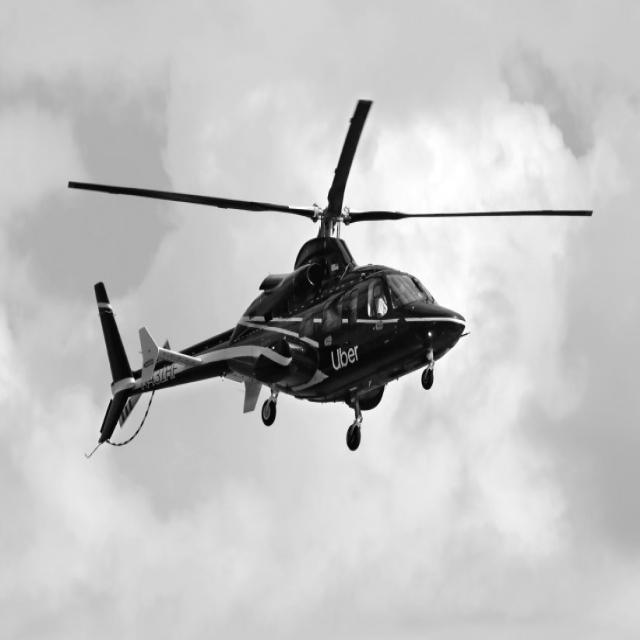helicopter: (64, 92, 598, 457)
